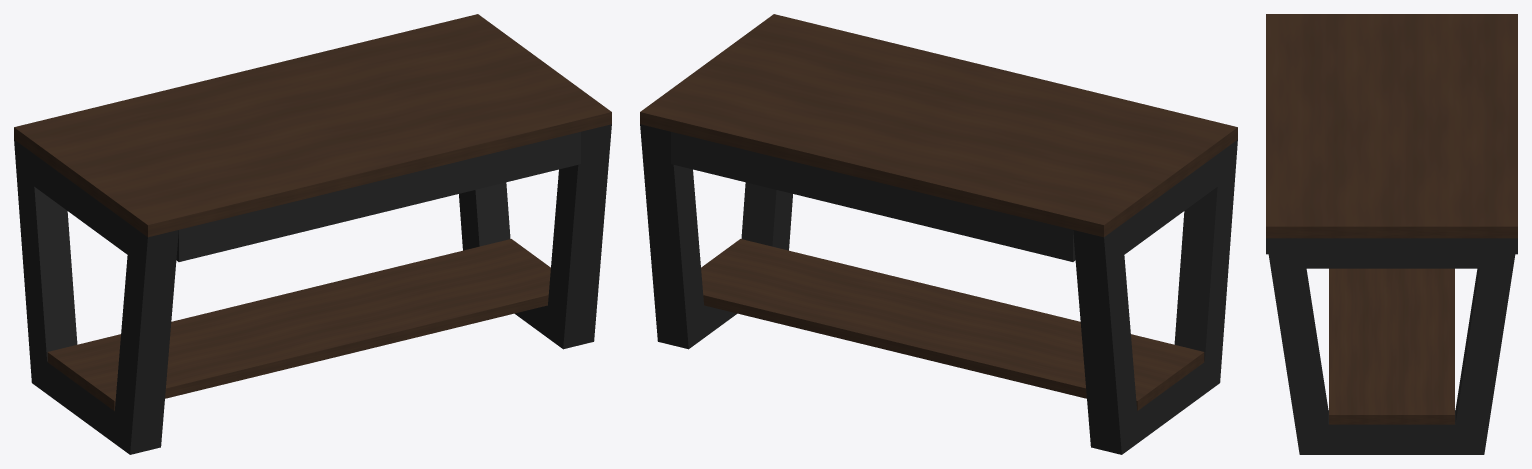
File: mesa-living-nord-estante-ebano-negro-8cm.glb
3 renders of one model, left to right at view 1: azimuth 30°, elevation 25°; view 2: azimuth 150°, elevation 25°; view 3: azimuth 270°, elevation 25°, orthographic. The views are drawn at different scales.
Visible parts, largest first — view 1: Tapa de madera maciza 120 x 60 x 3 cm, Patas inclinadas con cortes a inglete, Estante inferior de madera de 120 cm (proporción aproximada), Larguero longitudinal superior de hierro 8 x 8 mm, Travesaño superior del trapecio, perfil 8 cm, Travesaño inferior del trapecio, perfil 8 cm (×2); view 2: Tapa de madera maciza 120 x 60 x 3 cm, Patas inclinadas con cortes a inglete, Estante inferior de madera de 120 cm (proporción aproximada), Larguero longitudinal superior de hierro 8 x 8 mm, Travesaño superior del trapecio, perfil 8 cm, Travesaño inferior del trapecio, perfil 8 cm; view 3: Tapa de madera maciza 120 x 60 x 3 cm, Estante inferior de madera de 120 cm (proporción aproximada), Patas inclinadas con cortes a inglete, Travesaño superior del trapecio, perfil 8 cm, Travesaño inferior del trapecio, perfil 8 cm.
Boxes of the visible parts, left/top/right/bottom form: Tapa de madera maciza 120 x 60 x 3 cm: left=14, top=14, right=611, bottom=237; Patas inclinadas con cortes a inglete: left=14, top=124, right=611, bottom=454; Estante inferior de madera de 120 cm (proporción aproximada): left=47, top=239, right=550, bottom=410; Larguero longitudinal superior de hierro 8 x 8 mm: left=176, top=132, right=580, bottom=261; Travesaño superior del trapecio, perfil 8 cm: left=32, top=153, right=138, bottom=262; Travesaño inferior del trapecio, perfil 8 cm (×2): left=47, top=305, right=554, bottom=446; Tapa de madera maciza 120 x 60 x 3 cm: left=640, top=14, right=1237, bottom=237; Patas inclinadas con cortes a inglete: left=640, top=124, right=1237, bottom=454; Estante inferior de madera de 120 cm (proporción aproximada): left=701, top=239, right=1204, bottom=410; Larguero longitudinal superior de hierro 8 x 8 mm: left=671, top=132, right=1075, bottom=261; Travesaño superior del trapecio, perfil 8 cm: left=1113, top=146, right=1228, bottom=254; Travesaño inferior del trapecio, perfil 8 cm: left=1137, top=362, right=1204, bottom=441; Tapa de madera maciza 120 x 60 x 3 cm: left=1266, top=14, right=1517, bottom=238; Estante inferior de madera de 120 cm (proporción aproximada): left=1329, top=268, right=1454, bottom=424; Patas inclinadas con cortes a inglete: left=1266, top=238, right=1517, bottom=454; Travesaño superior del trapecio, perfil 8 cm: left=1283, top=238, right=1500, bottom=268; Travesaño inferior del trapecio, perfil 8 cm: left=1316, top=410, right=1467, bottom=454.
Bounding box in the file's own units: 1.2 × 0.6 × 0.6.
Materials: 2 (1 with a texture image).
